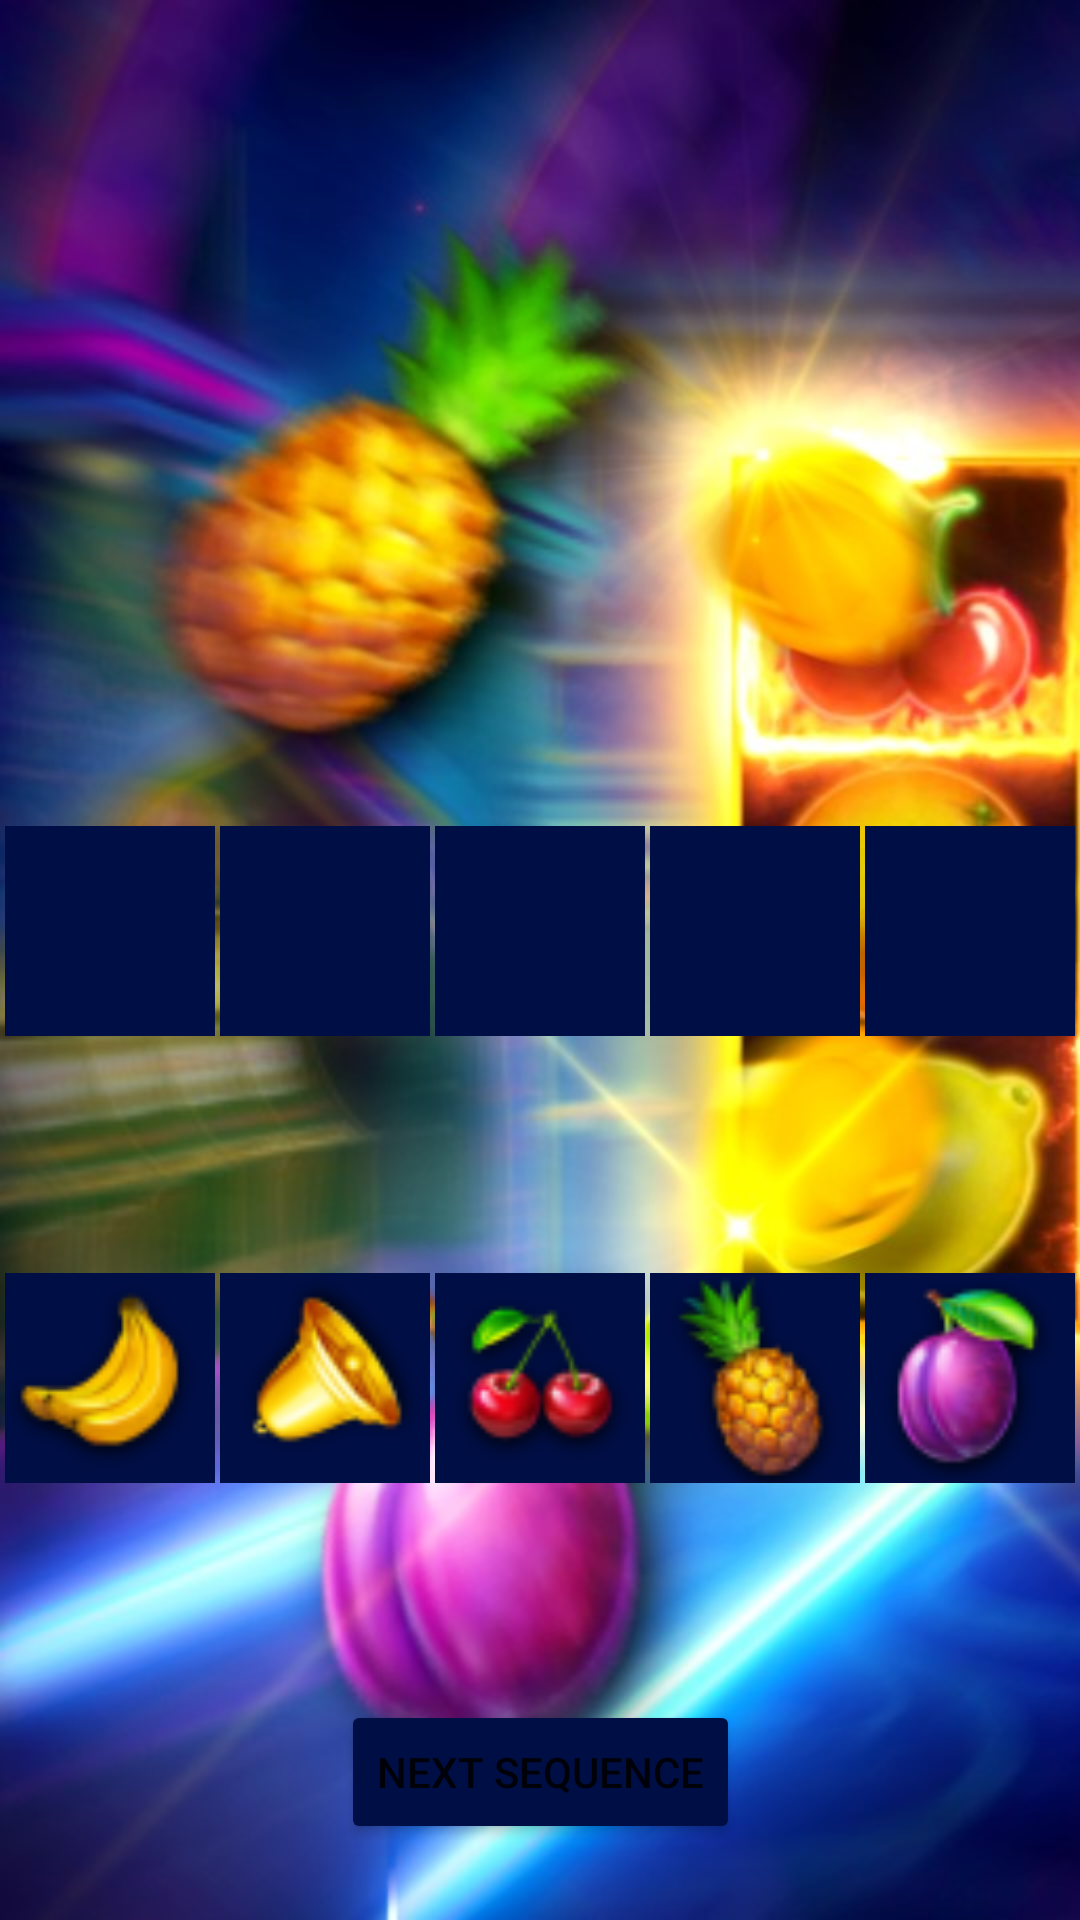

Point at icon controls on the screen. Image size 1080 × 1920, points as [x,y].
banana: [110,1378]
bell: [325,1378]
cherry: [540,1378]
pineapple: [755,1378]
plum: [970,1378]
